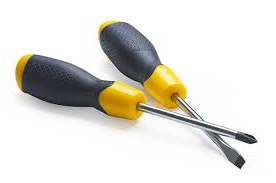Screwdriver: (16, 21, 264, 170)
